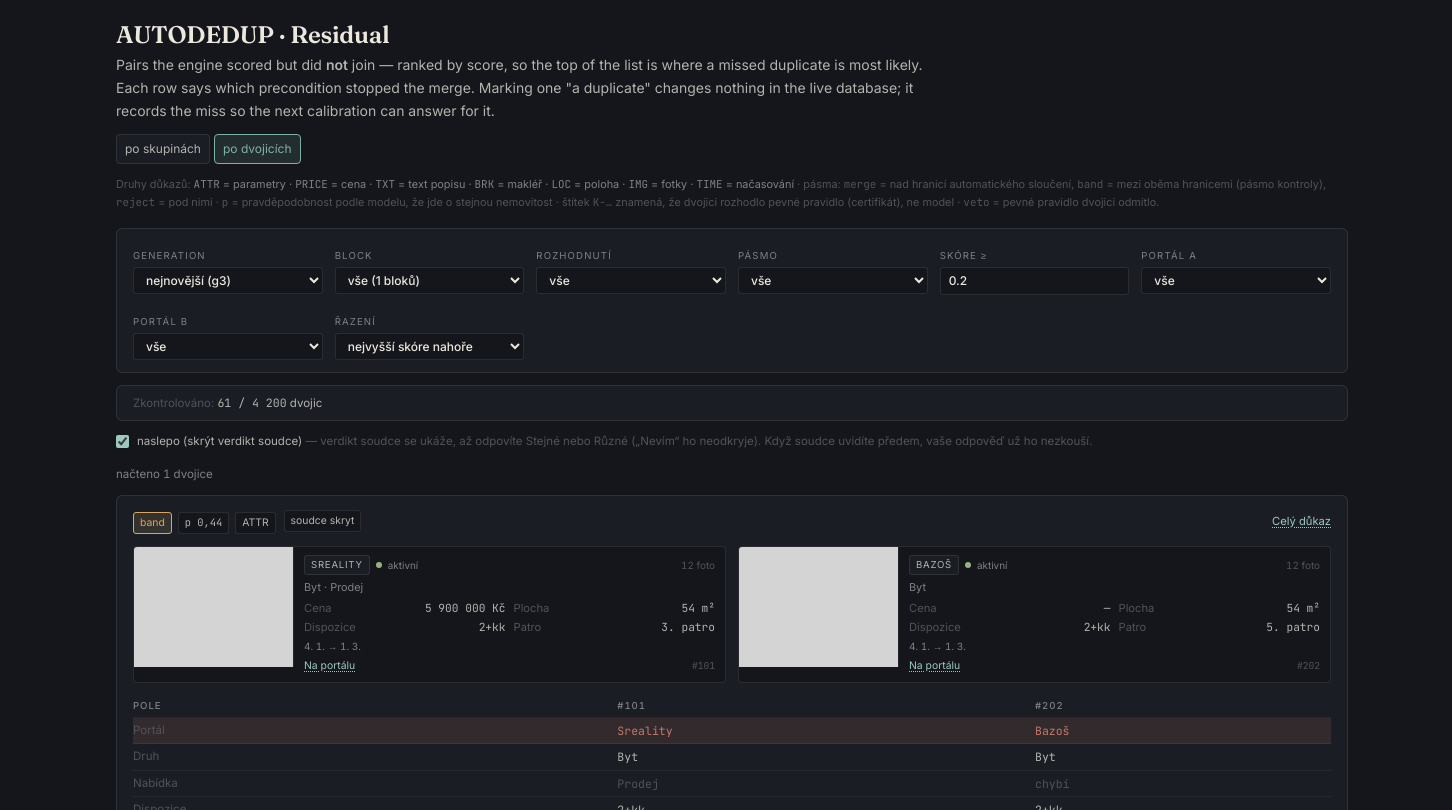
Test: <AutodedupResidual> › writes the display floor into the url when it is cleared
Clear the field labelled "Skóre ≥": (1035, 281) left=940, top=267, right=1129, bottom=295
(page scrolled)
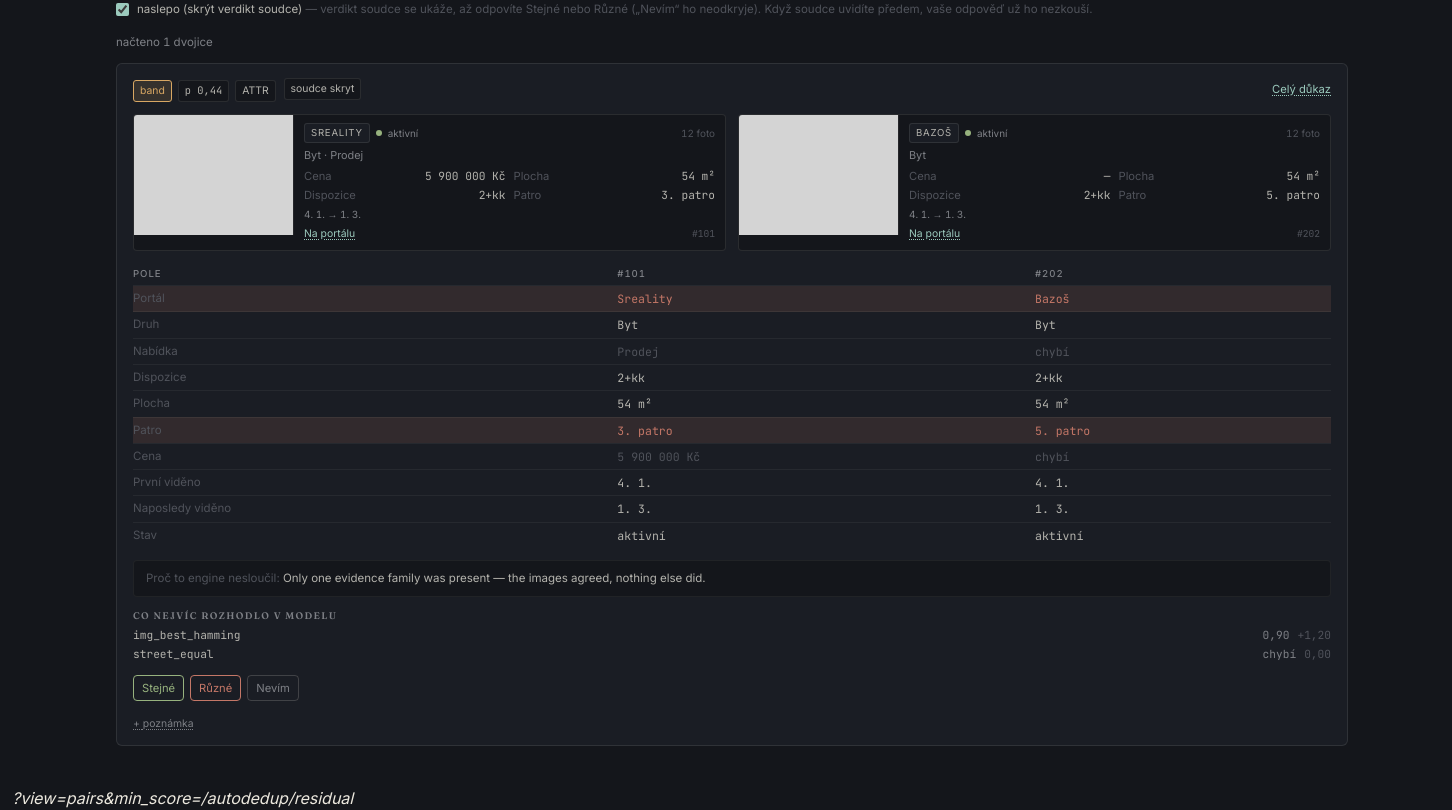
Check: the text with test id "search" shows "min_score=", box left=12, top=788, right=201, bottom=808
